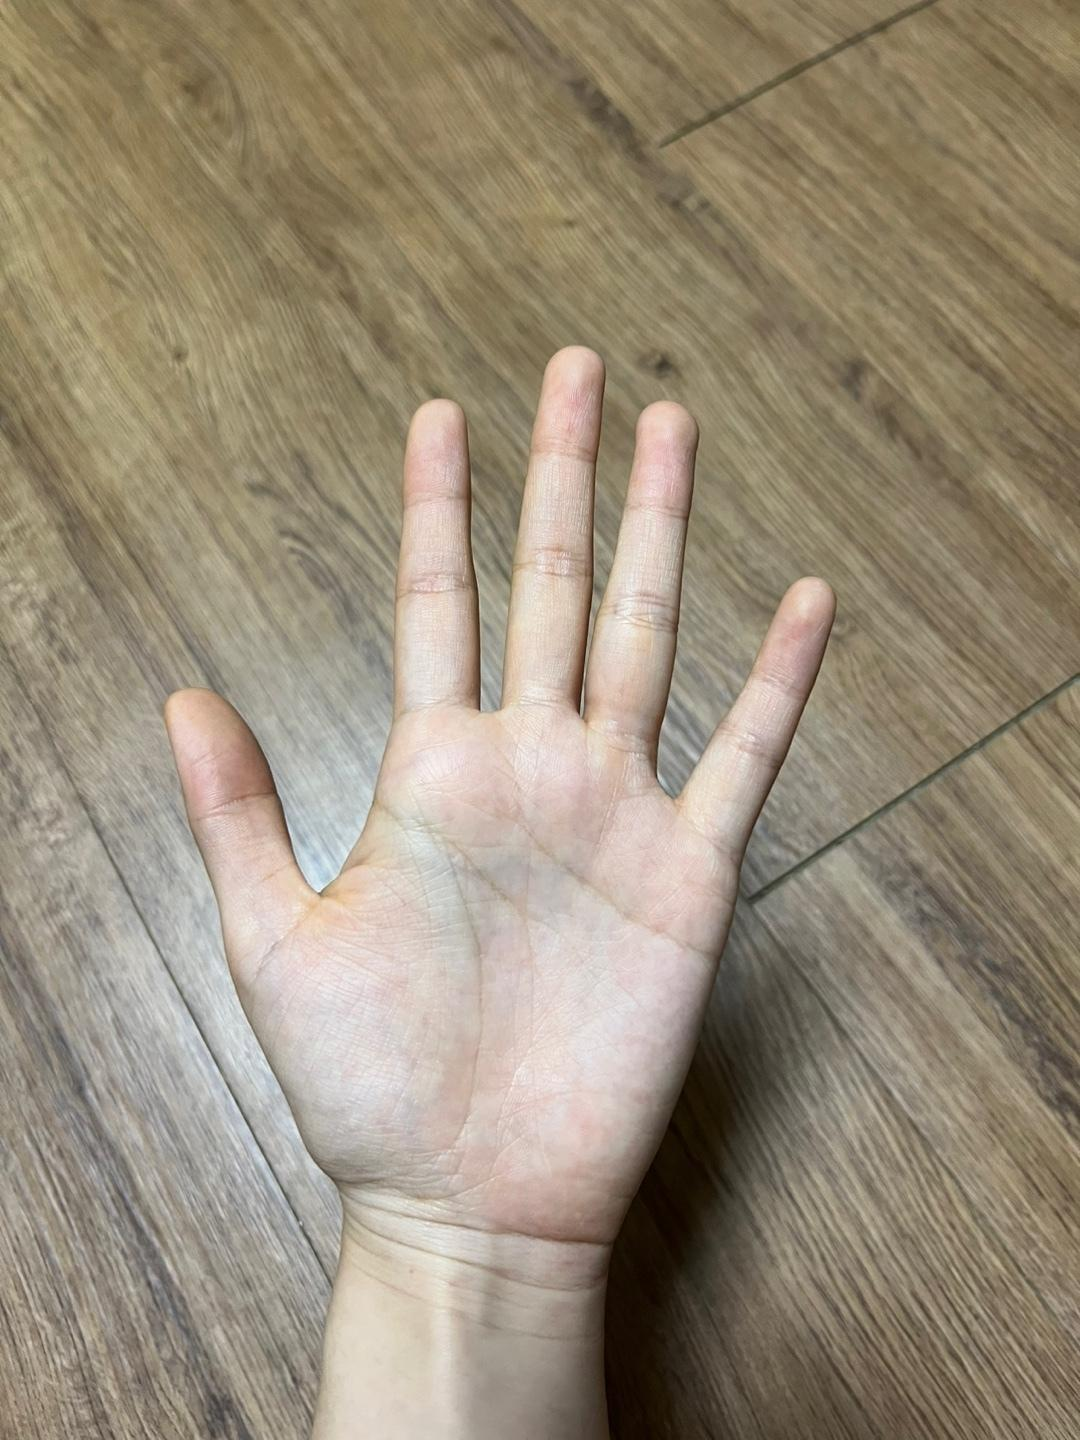open: (154, 340, 847, 1306)
